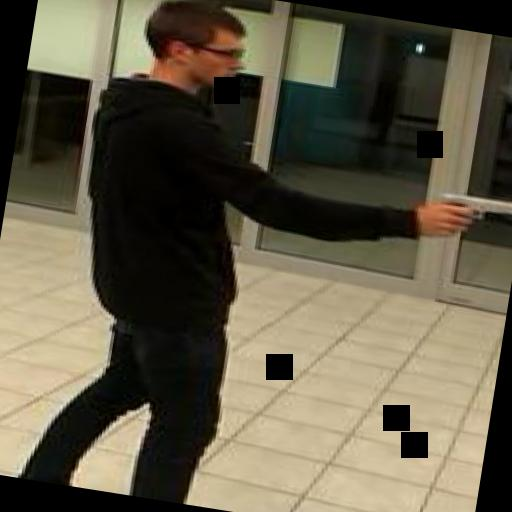Handgun: (423, 185, 512, 244)
